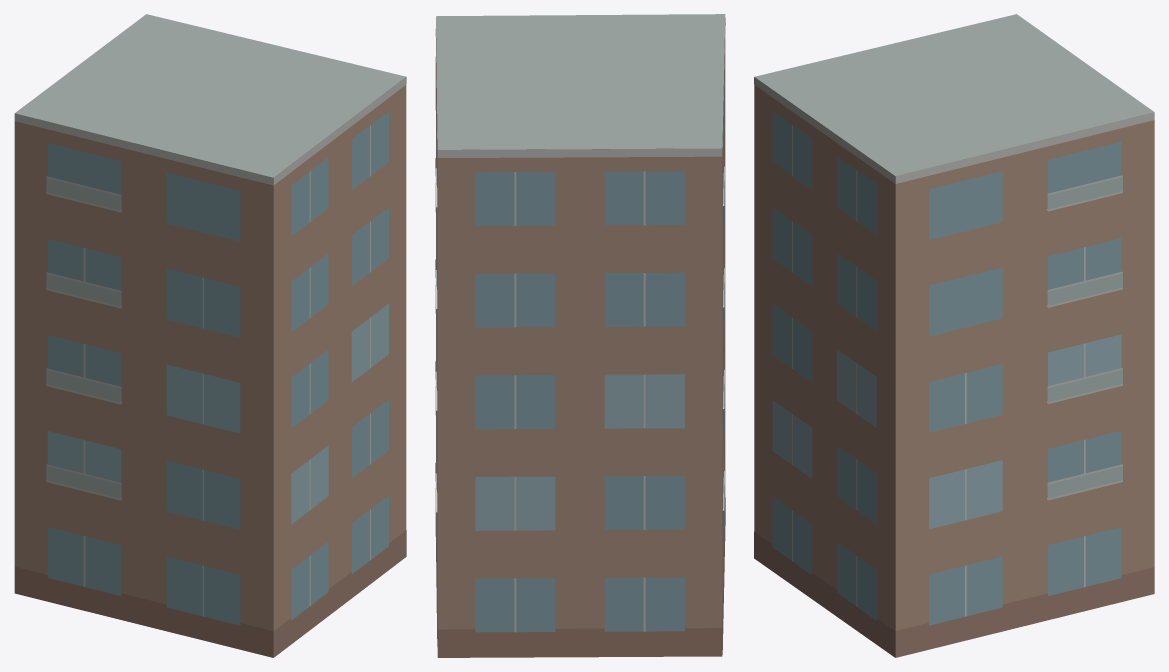
The model's file is survey-upis-32695338.glb.
The picture shows the model from 3 angles, left to right: view 1: azimuth 30°, elevation 25°; view 2: azimuth 150°, elevation 25°; view 3: azimuth 270°, elevation 25°; orthographic projection. The views are drawn at different scales.
Parts seen in each view (by area): view 1: survey-upis-32695338.tmp; view 2: survey-upis-32695338.tmp; view 3: survey-upis-32695338.tmp.
Boxes of the visible parts, x1,y1,x2,y2 form: survey-upis-32695338.tmp: [14, 14, 406, 657]; survey-upis-32695338.tmp: [435, 14, 725, 657]; survey-upis-32695338.tmp: [754, 14, 1154, 657].
Size of the model in its own units: 10.88 by 15.05 by 11.35.
